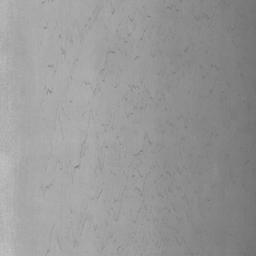Silk spot: (95, 157, 104, 173), (80, 139, 86, 158)
